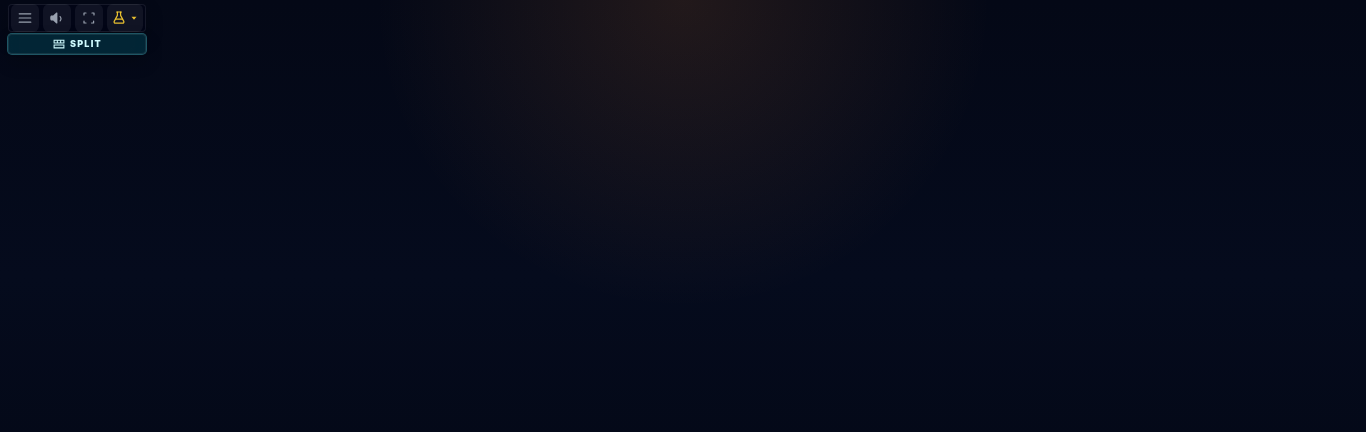
Scenario: GameMenu › shows the floating click mode button as pinned in the sandbox dropdown
Click the button named "Sandbox Tools". click: (125, 18)
box: [107,4,143,32]
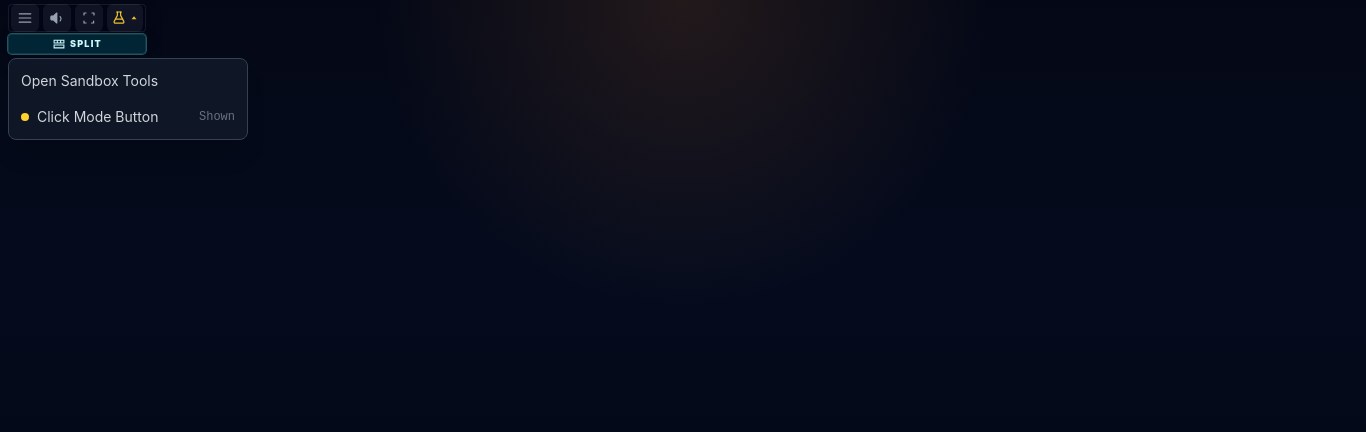
Expected: the menu item "Click Mode Button Shown" is checked, [9,99,247,135]
